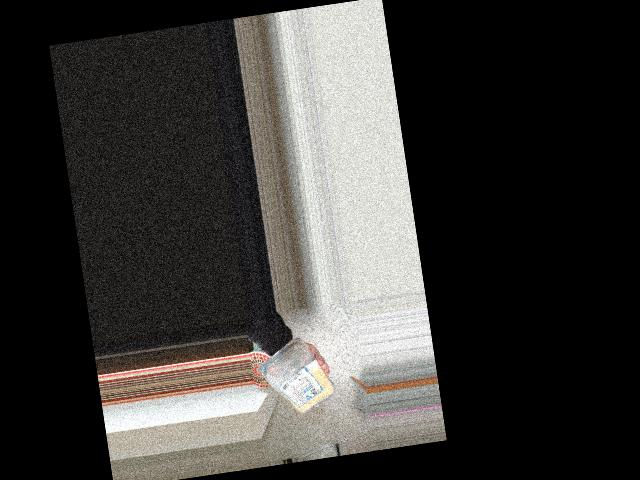cheese: (257, 339, 330, 423)
